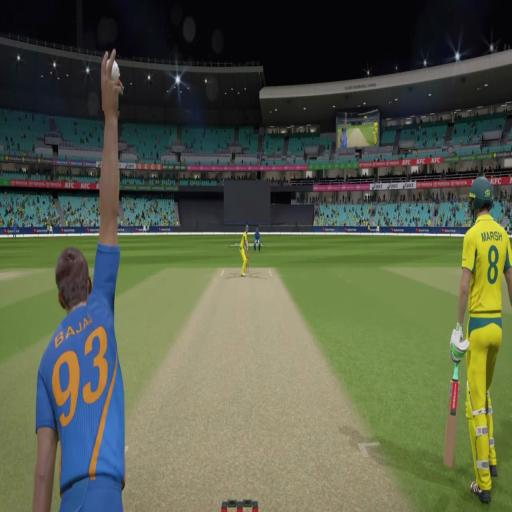ball: (112, 61, 120, 80), (106, 59, 109, 69)
